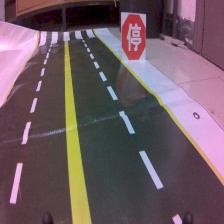stop: (119, 10, 148, 65)
